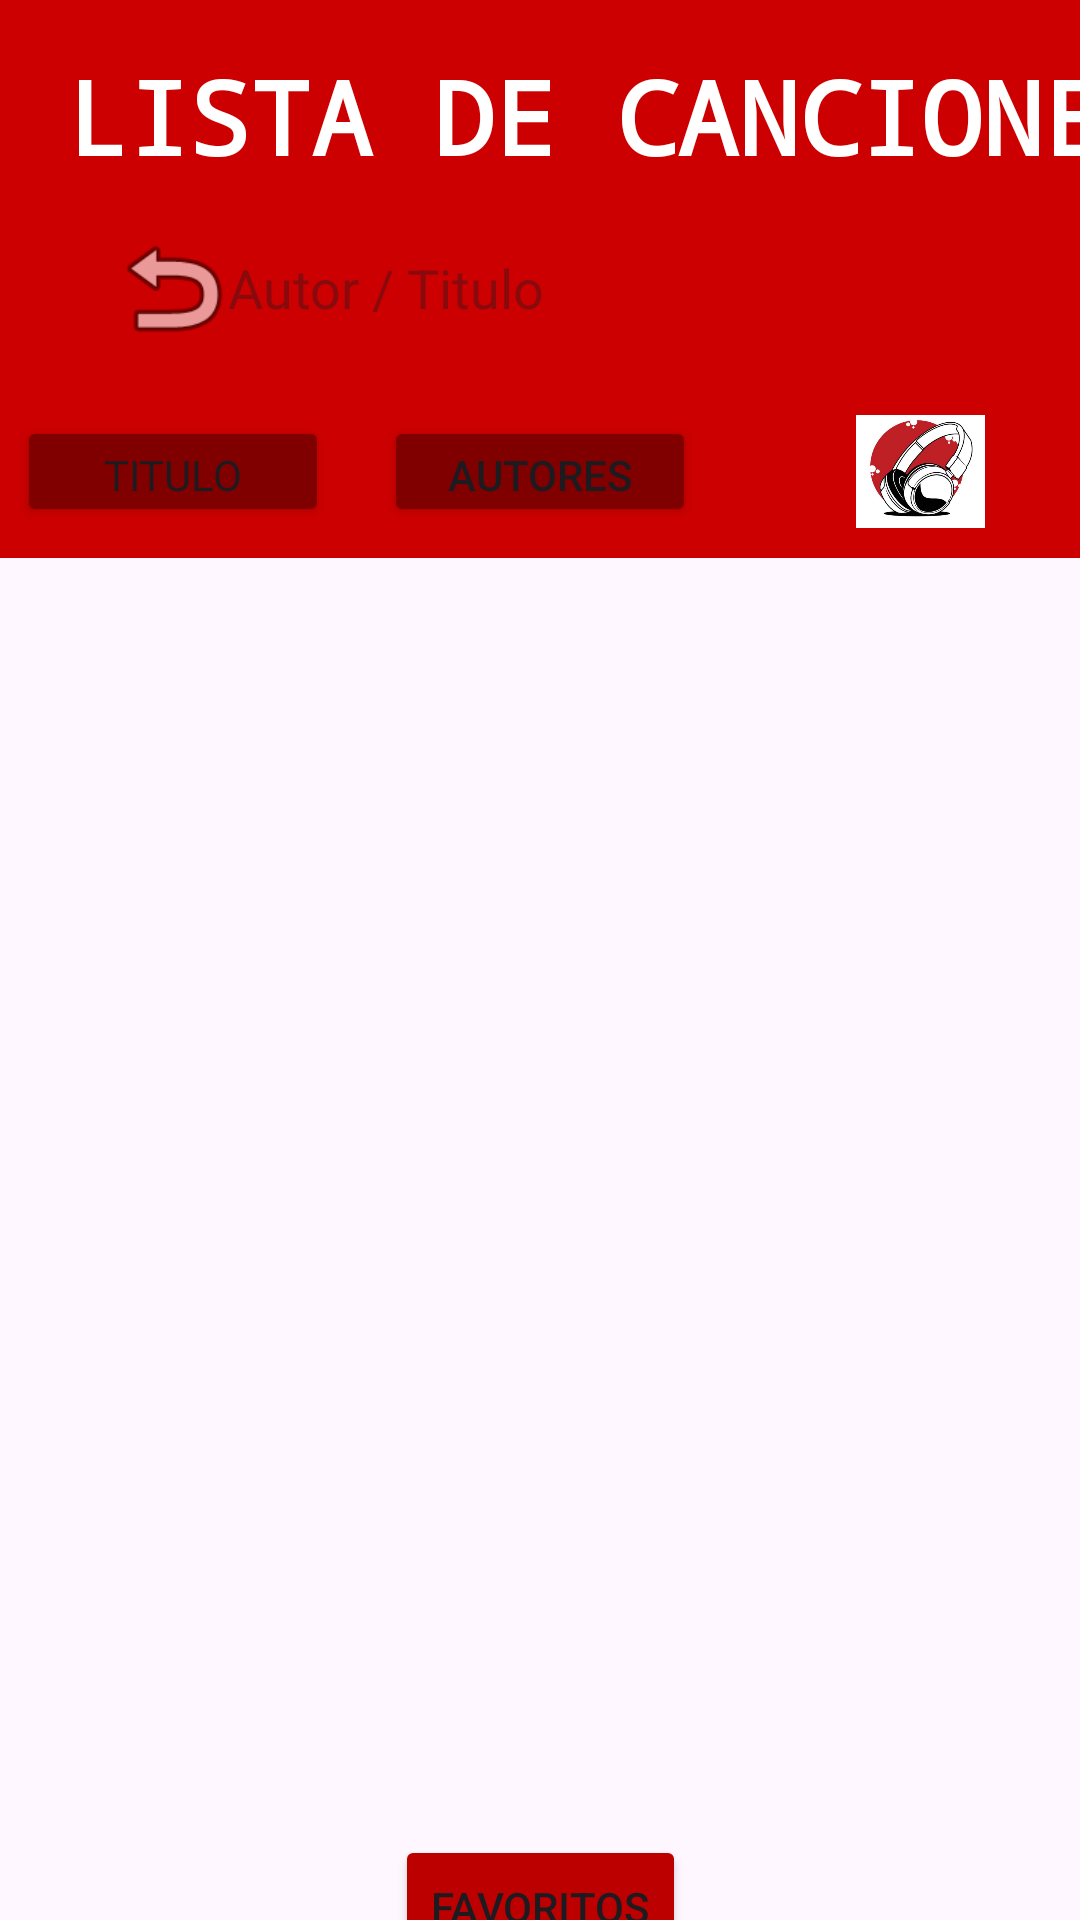

Icons on this 1080*1920 Android screen, each with the point to tap as (x,y):
revert: (174,289)
